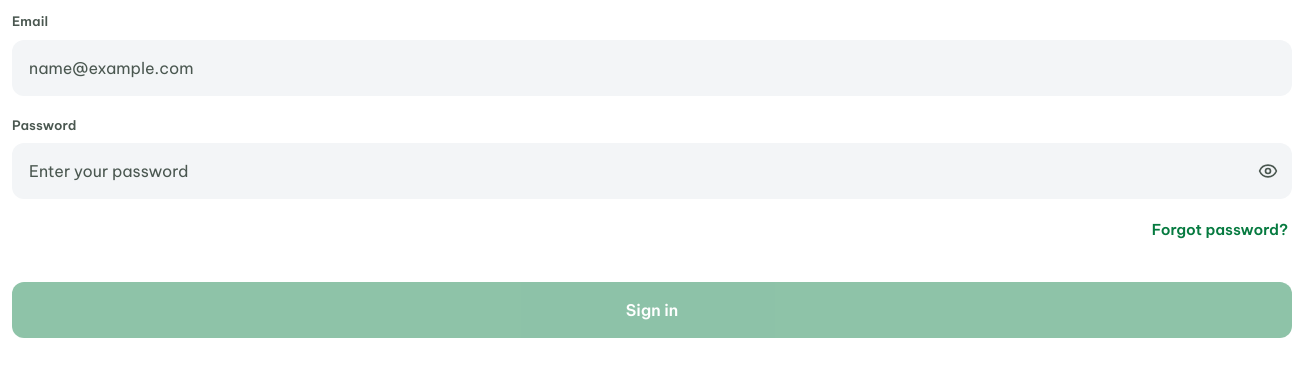
Scenario: SignInForm › keeps showing the message for other refusals
Type "ada@example.com" into the field labelled "Email". click: (652, 68)
box: [12,40,1292,96]
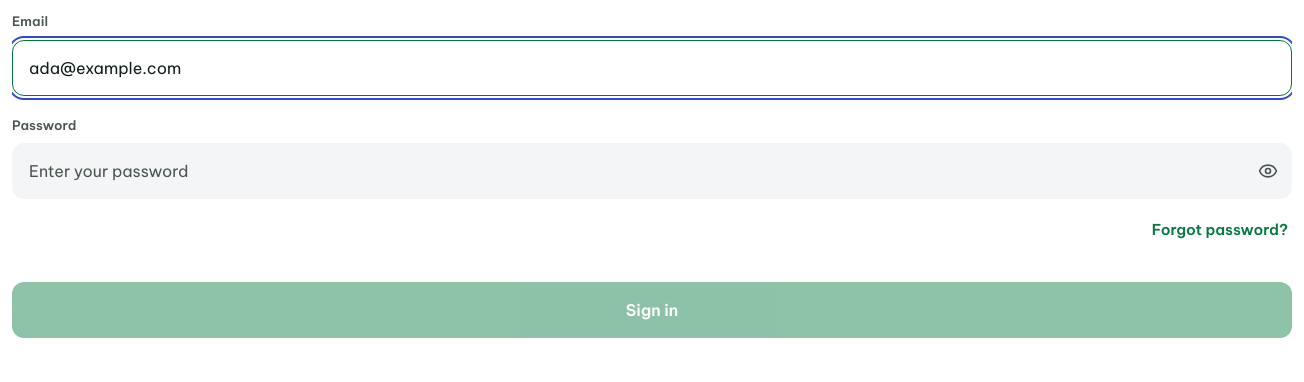
Type "correct horse battery" into the password field labelled "Password". click: (652, 171)
box: [12,143,1292,199]
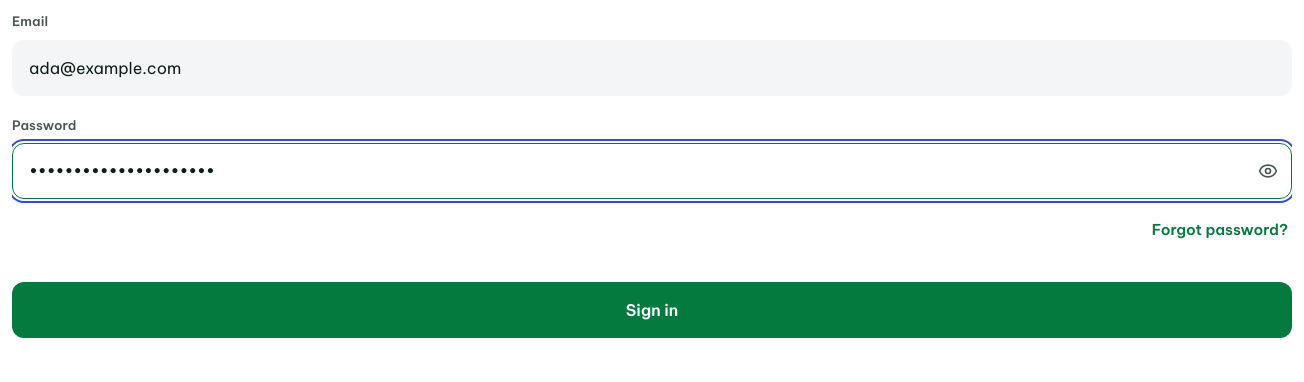
Click the button "Sign in". click: (652, 310)
box: [12,282,1292,338]
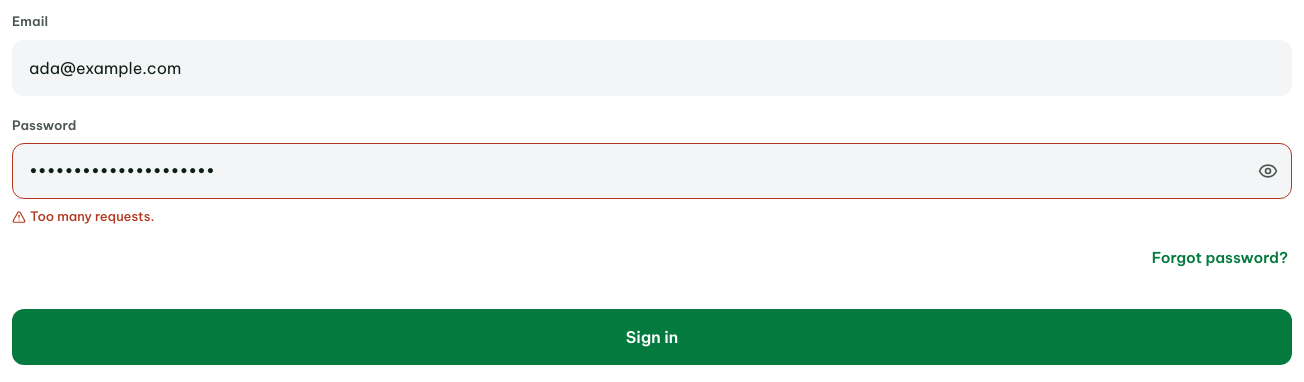
Check: the message reads "Too many requests.", box [30,208,154,224]
